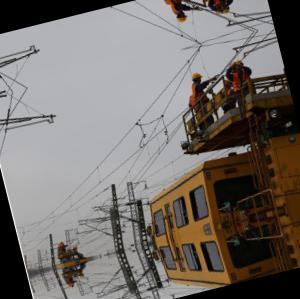helmet: (190, 69, 206, 86), (175, 9, 191, 26)
